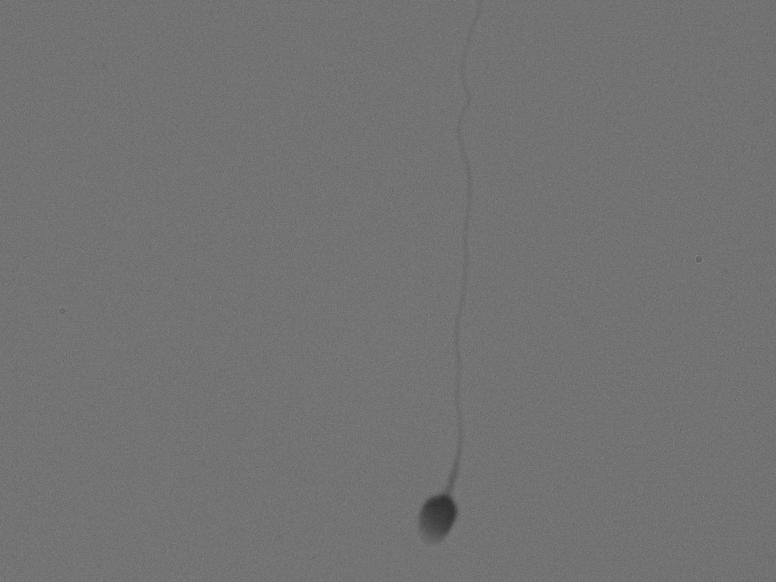Normal: (352, 25, 570, 570)
